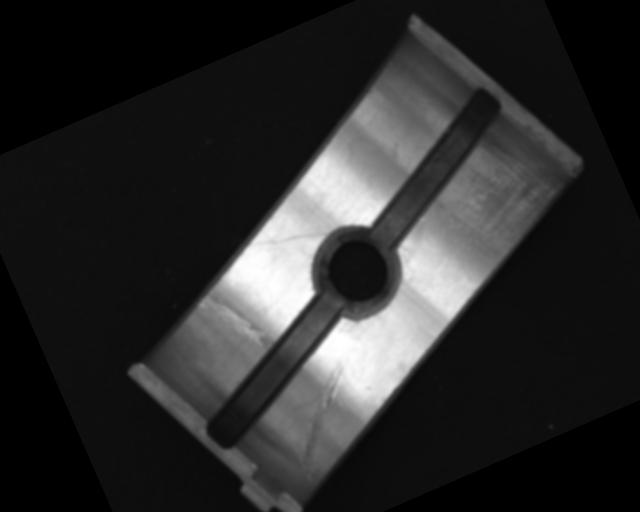gap: (337, 84, 536, 252), (175, 290, 371, 451)
hole: (295, 210, 416, 332)
nick: (269, 364, 381, 486), (194, 276, 272, 367), (246, 211, 330, 266)
scratch: (416, 119, 586, 279)
